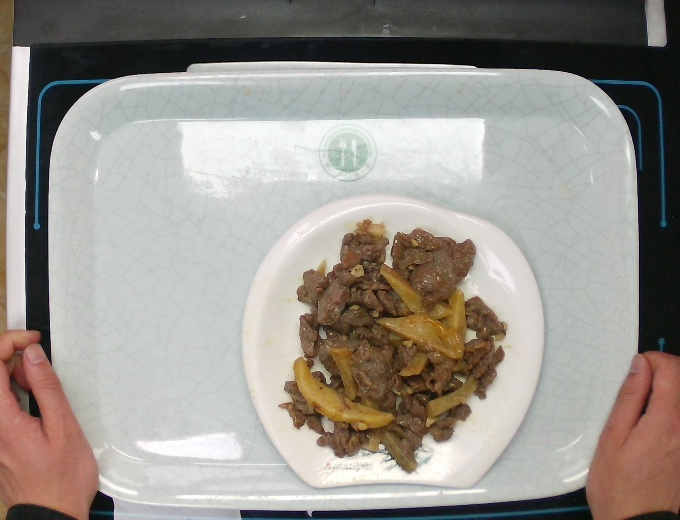JYsf-Mian_Pan: (234, 192, 552, 492)
